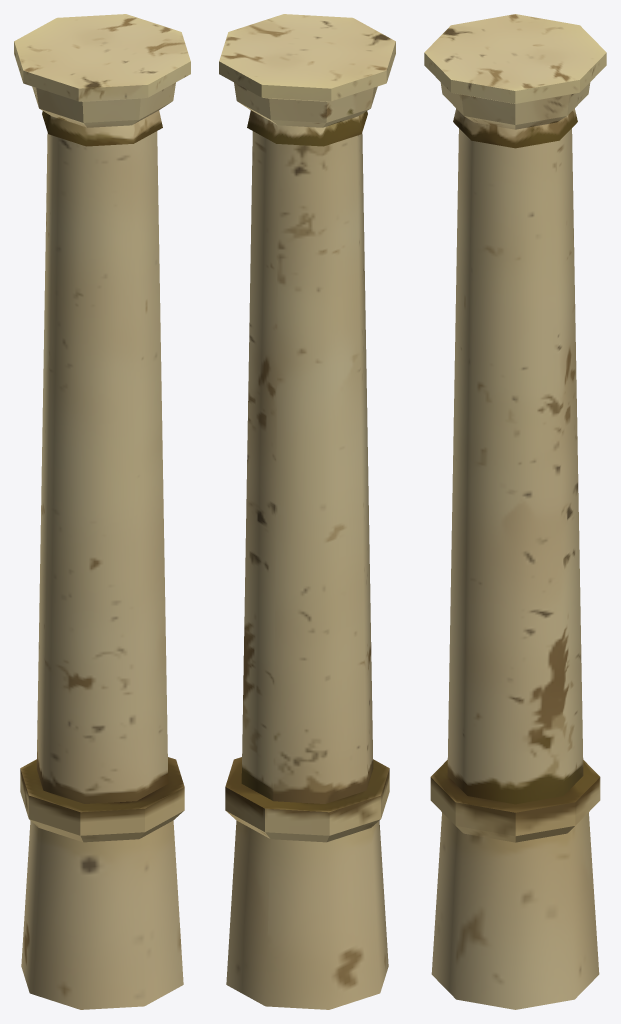
Rendered from Rome_Village_Props_26.FBX.
The picture shows the model from 3 angles, left to right: view 1: azimuth 30°, elevation 25°; view 2: azimuth 150°, elevation 25°; view 3: azimuth 270°, elevation 25°; orthographic projection.
Parts seen in each view (by area): view 1: Rome_Village_Props_26; view 2: Rome_Village_Props_26; view 3: Rome_Village_Props_26.
Part boxes in pixels (x1=…): Rome_Village_Props_26: x1=14, y1=14, x2=190, y2=1009; Rome_Village_Props_26: x1=219, y1=14, x2=395, y2=1009; Rome_Village_Props_26: x1=424, y1=14, x2=606, y2=1009.
Size of the model in its own units: 126 by 703 by 126.
